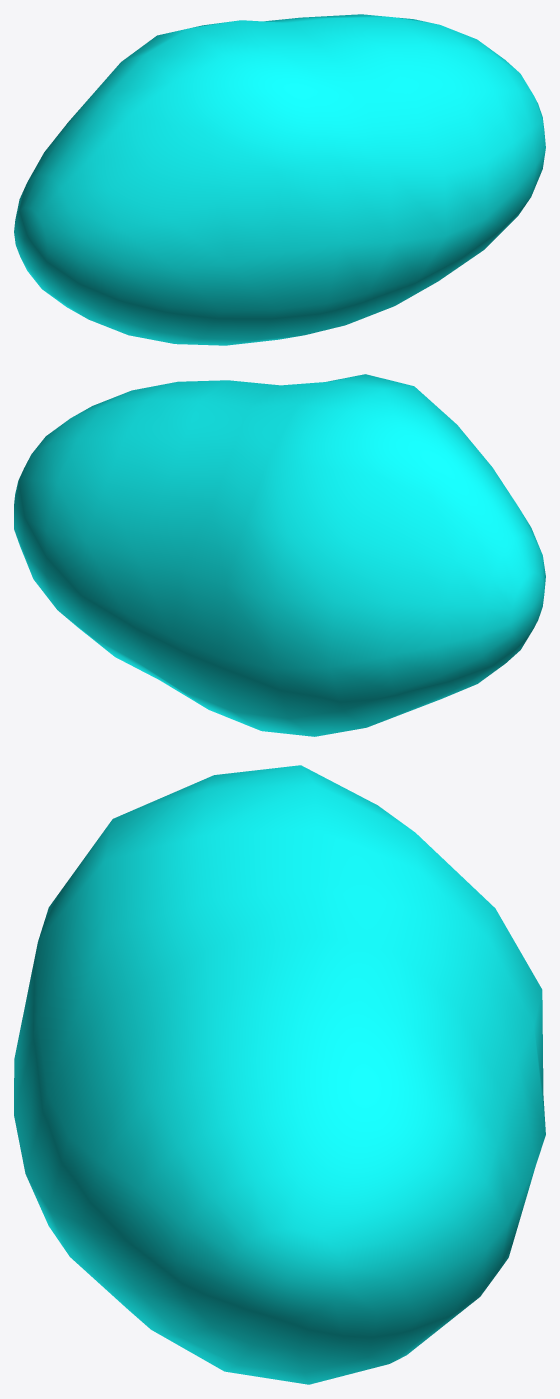
File: Crystal.fbx
The picture shows the model from 3 angles, top to bottom: view 1: azimuth 30°, elevation 25°; view 2: azimuth 150°, elevation 25°; view 3: azimuth 270°, elevation 25°; orthographic projection. The views are drawn at different scales.
Visible parts, largest first — view 1: Crystal; view 2: Crystal; view 3: Crystal.
Boxes of the visible parts, x1,y1,x2,y2 form: Crystal: [14, 14, 545, 345]; Crystal: [14, 374, 545, 736]; Crystal: [14, 765, 545, 1384].
Bounding box in the file's own units: 0.65 × 0.3851 × 0.3878.
